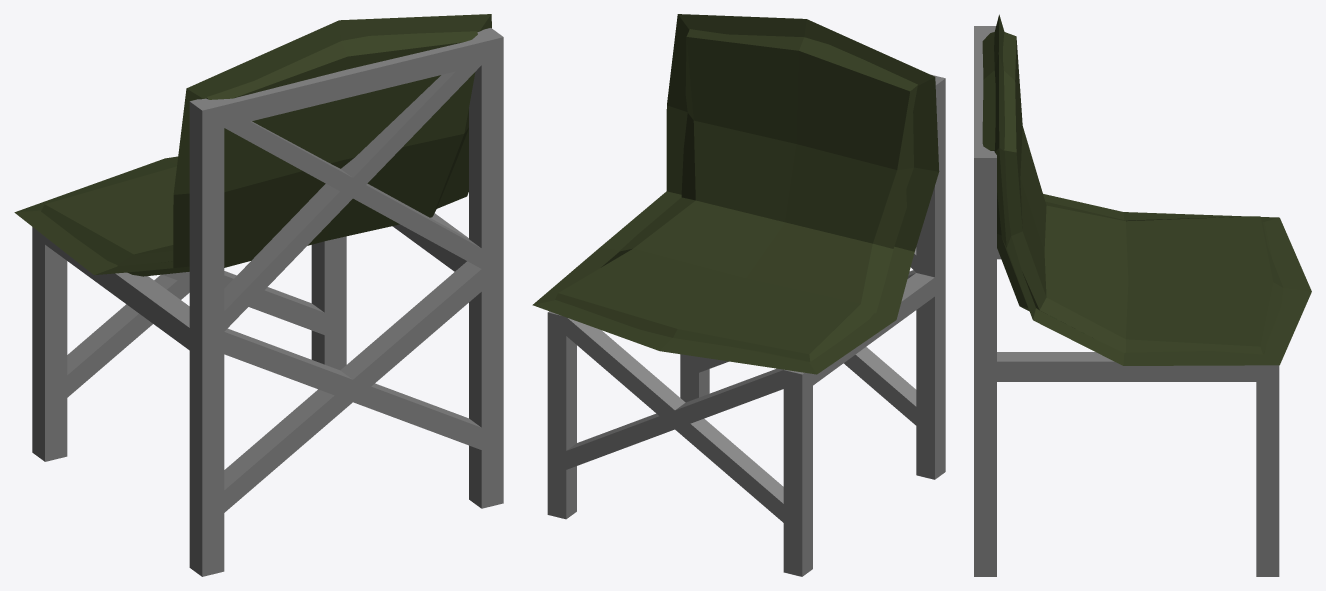
Rendered from campingchair.fbx.
3 renders of one model, left to right at view 1: azimuth 30°, elevation 25°; view 2: azimuth 150°, elevation 25°; view 3: azimuth 270°, elevation 25°, orthographic. The views are drawn at different scales.
Parts seen in each view (by area): view 1: campingchair; view 2: campingchair; view 3: campingchair.
Boxes of the visible parts, bbox=[...] form: campingchair: bbox=[14, 14, 503, 576]; campingchair: bbox=[532, 14, 945, 576]; campingchair: bbox=[974, 14, 1311, 576].
Size of the model in its own units: 0.8299 by 1.15 by 0.7693.
